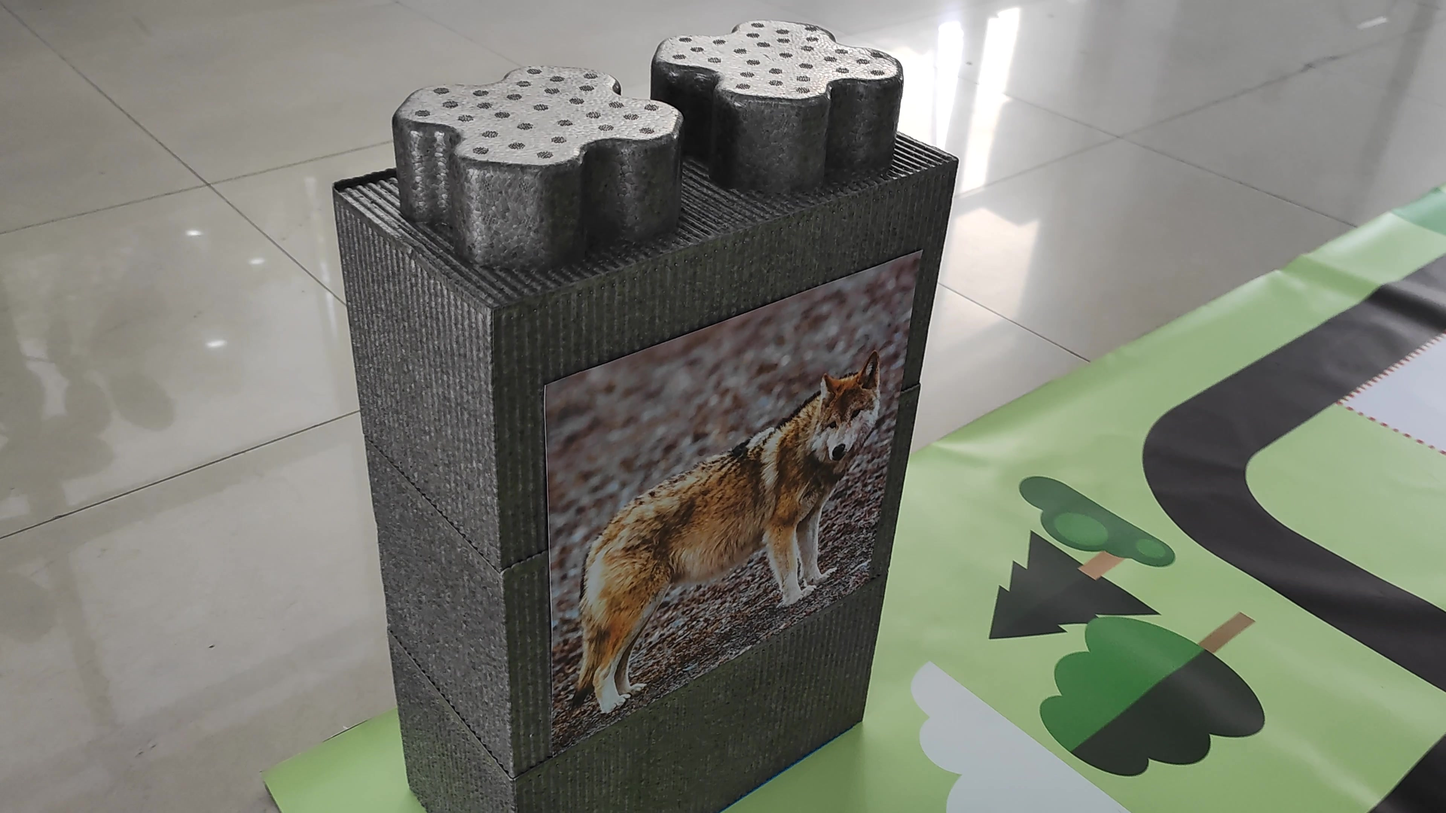wolf: (557, 322, 899, 724)
